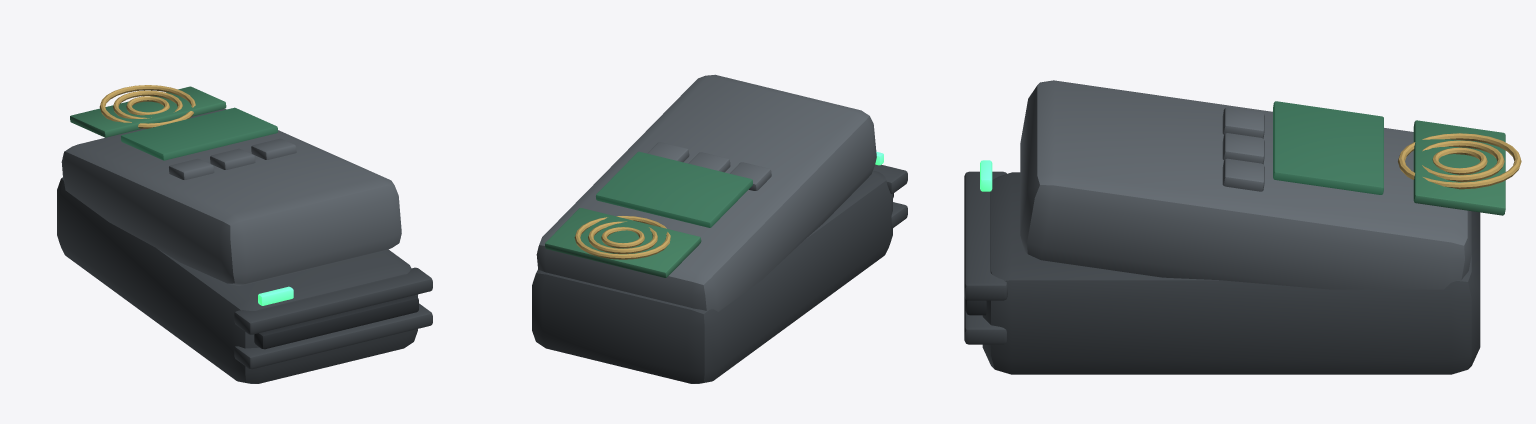
File: checkout_card_reader.glb
3 views of the same model, side by side, from view 1: azimuth 30°, elevation 25°; view 2: azimuth 150°, elevation 25°; view 3: azimuth 270°, elevation 25° (orthographic). The views are drawn at different scales.
Parts seen in each view (by area): view 1: ReaderUpperShell, ReaderLowerShell, ChipSlotBezelTop, ReaderScreen, ChipSlotBezelBottom, ContactlessPad, ChipSlot, ContactlessWave_24, Key_1_3, Key_1_2, Key_1_1, ContactlessWave_17 (+2 smaller); view 2: ReaderUpperShell, ReaderLowerShell, ReaderScreen, ContactlessPad, ContactlessWave_24, ContactlessWave_17, Key_1_1, ChipSlotBezelTop, Key_1_2, Key_1_3, ContactlessWave_10; view 3: ReaderUpperShell, ReaderLowerShell, ReaderScreen, ContactlessPad, ChipSlotBezelTop, ContactlessWave_24, Key_1_3, Key_1_1, Key_1_2, ContactlessWave_17, ChipSlotBezelBottom, ContactlessWave_10.
Part boxes in pixels (<box>): ReaderUpperShell: <box>61,109,401,285</box>; ReaderLowerShell: <box>57,177,417,383</box>; ChipSlotBezelTop: <box>234,267,432,334</box>; ReaderScreen: <box>121,107,277,160</box>; ChipSlotBezelBottom: <box>234,303,432,369</box>; ContactlessPad: <box>70,86,226,137</box>; ChipSlot: <box>254,295,418,349</box>; ContactlessWave_24: <box>99,85,195,128</box>; Key_1_3: <box>251,138,296,159</box>; Key_1_2: <box>210,148,255,169</box>; Key_1_1: <box>169,158,214,179</box>; ContactlessWave_17: <box>113,90,182,118</box>; ReaderUpperShell: <box>536,74,876,311</box>; ReaderLowerShell: <box>532,170,892,383</box>; ReaderScreen: <box>596,151,752,227</box>; ContactlessPad: <box>545,208,701,277</box>; ContactlessWave_24: <box>574,216,670,259</box>; ContactlessWave_17: <box>588,221,657,253</box>; Key_1_1: <box>730,162,771,190</box>; ChipSlotBezelTop: <box>873,164,907,193</box>; Key_1_2: <box>688,152,730,172</box>; Key_1_3: <box>647,142,689,162</box>; ContactlessWave_10: <box>601,227,644,248</box>; ReaderUpperShell: <box>1020,80,1471,289</box>; ReaderLowerShell: <box>982,172,1480,374</box>; ReaderScreen: <box>1273,101,1383,194</box>; ContactlessPad: <box>1413,120,1505,215</box>; ChipSlotBezelTop: <box>964,171,1007,300</box>; ContactlessWave_24: <box>1398,133,1521,189</box>; Key_1_3: <box>1222,158,1264,191</box>; Key_1_1: <box>1222,107,1264,138</box>; Key_1_2: <box>1222,133,1264,164</box>; ContactlessWave_17: <box>1422,140,1504,181</box>; ChipSlotBezelBottom: <box>964,297,1006,344</box>; ContactlessWave_10: <box>1432,147,1487,174</box>.
Size of the model in its own units: 0.15 by 0.11 by 0.2295.
